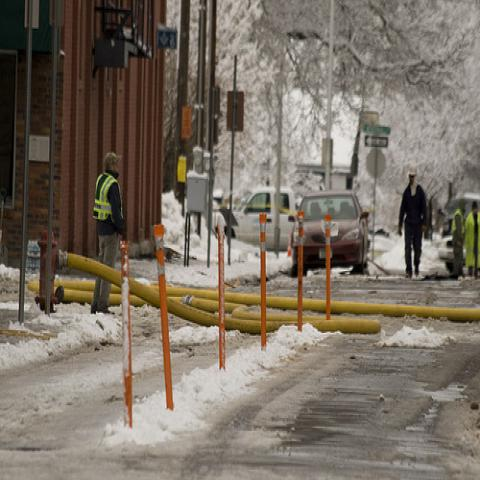car: (288, 190, 370, 276), (440, 194, 480, 238), (437, 235, 454, 274)
truck: (220, 186, 296, 251)
